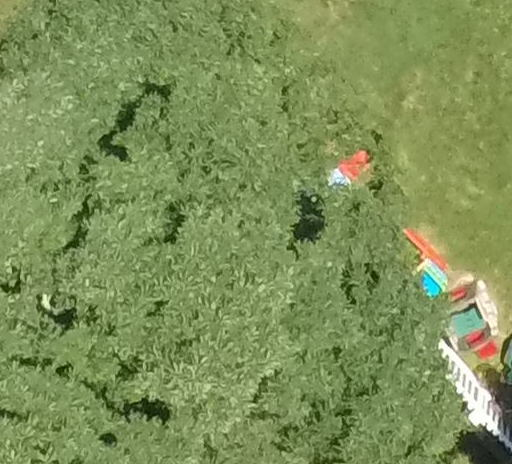container: (407, 249, 447, 297)
